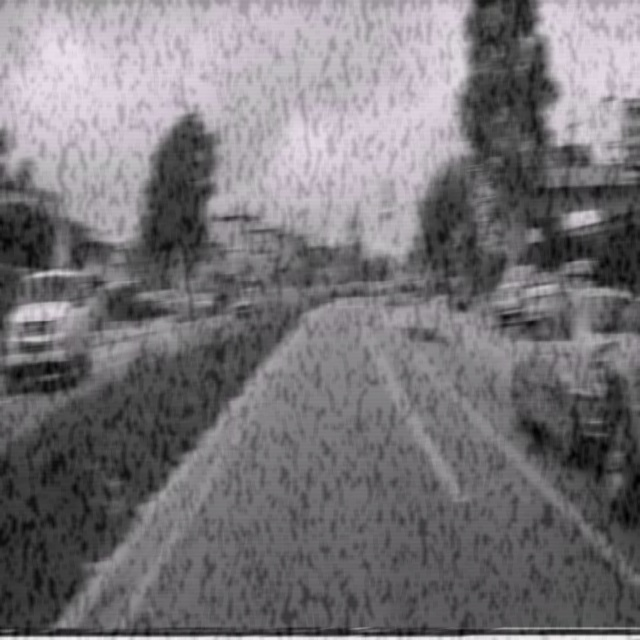roundabout: (469, 164, 498, 218)
